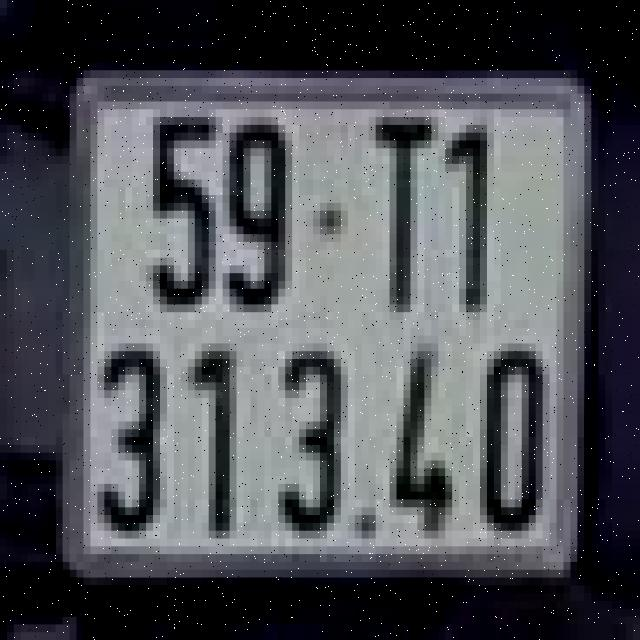0: (477, 320, 553, 539)
1: (438, 105, 501, 316), (181, 332, 243, 542)
3: (264, 332, 355, 534), (90, 332, 174, 542)
4: (383, 344, 466, 538)
5: (139, 105, 223, 316)
8: (219, 109, 303, 312)
T: (365, 90, 435, 324)
